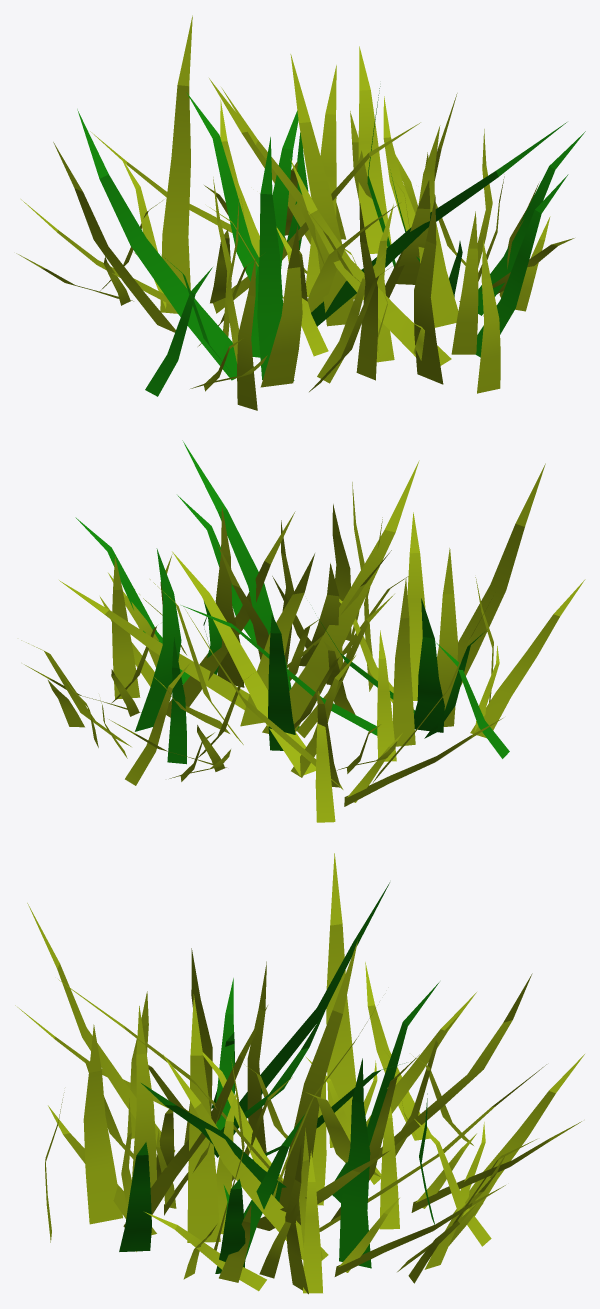
Rendered from Grass_patch_v001.fbx.
3 views of the same model, one above another, from view 1: azimuth 30°, elevation 25°; view 2: azimuth 150°, elevation 25°; view 3: azimuth 270°, elevation 25° (orthographic). The views are drawn at different scales.
Parts seen in each view (by area): view 1: grass:Plane716; view 2: grass:Plane716; view 3: grass:Plane716.
Boxes of the visible parts, bbox=[...] form: grass:Plane716: bbox=[16, 15, 585, 410]; grass:Plane716: bbox=[21, 440, 585, 822]; grass:Plane716: bbox=[15, 853, 584, 1294].
Size of the model in its own units: 19.25 by 8.49 by 17.92.
